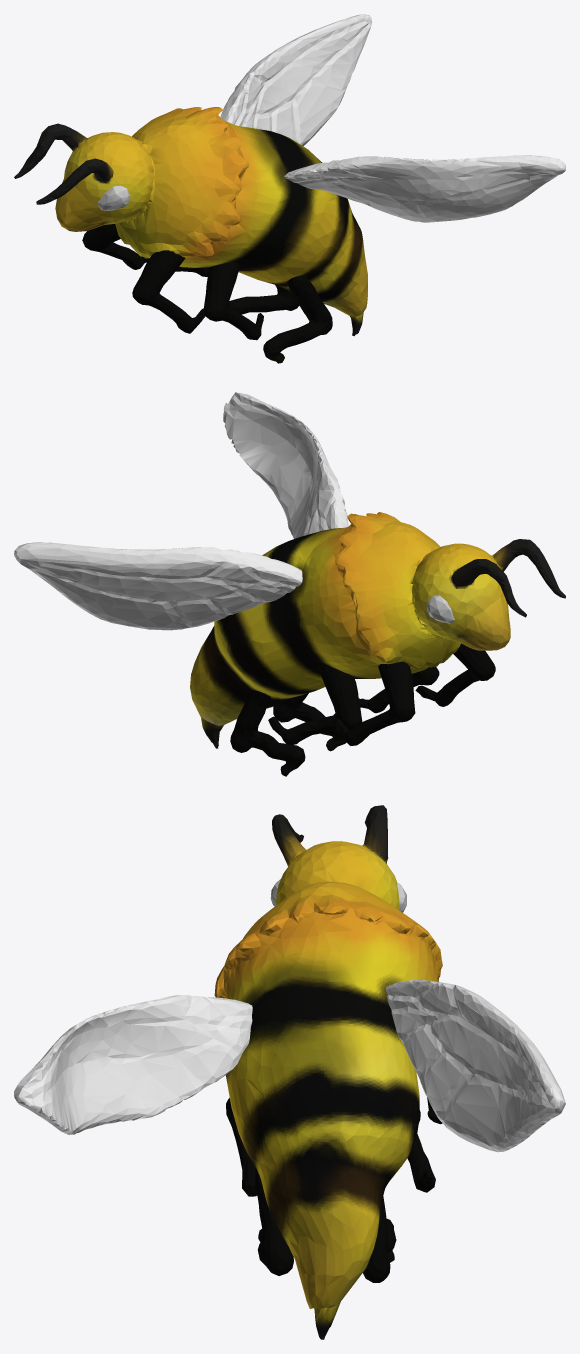
File: bee.fbx
3 views of the same model, one above another, from view 1: azimuth 30°, elevation 25°; view 2: azimuth 150°, elevation 25°; view 3: azimuth 270°, elevation 25° (orthographic). The views are drawn at different scales.
Parts seen in each view (by area): view 1: Layer_2, Layer_5, Layer_5.001, Layer_3, Layer_6; view 2: Layer_2, Layer_5.001, Layer_3, Layer_5, Layer_6.001; view 3: Layer_2, Layer_5, Layer_5.001, Layer_3.
Boxes of the visible parts, x1=… form: Layer_2: x1=14, y1=107, x2=367, y2=336; Layer_5: x1=284, y1=155, x2=565, y2=222; Layer_5.001: x1=220, y1=14, x2=372, y2=146; Layer_3: x1=82, y1=224, x2=332, y2=363; Layer_6: x1=97, y1=185, x2=130, y2=210; Layer_2: x1=190, y1=512, x2=565, y2=748; Layer_5.001: x1=14, y1=542, x2=302, y2=630; Layer_3: x1=230, y1=643, x2=495, y2=776; Layer_5: x1=223, y1=392, x2=348, y2=538; Layer_6.001: x1=427, y1=595, x2=454, y2=623; Layer_2: x1=214, y1=805, x2=442, y2=1339; Layer_5: x1=14, y1=995, x2=252, y2=1134; Layer_5.001: x1=386, y1=980, x2=565, y2=1152; Layer_3: x1=226, y1=1097, x2=442, y2=1282.
Bounding box in the file's own units: 97.25 × 56.71 × 80.73.
